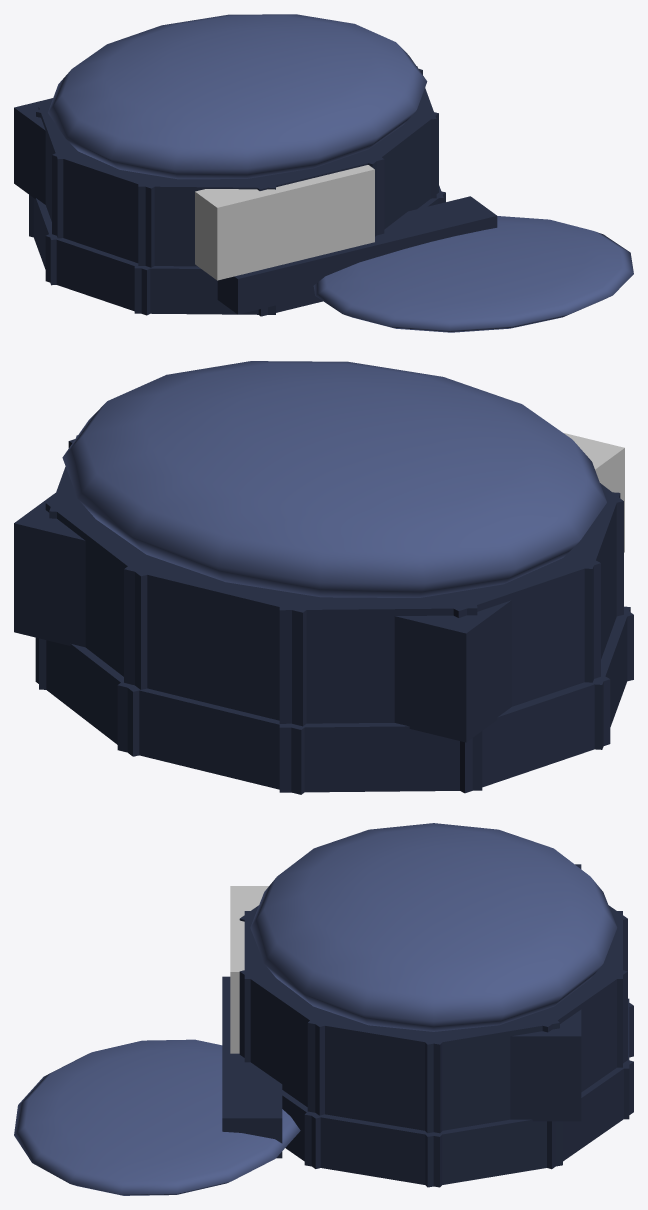
File: CMU3DAU14CivBallCapBlueTruckerWorldCloud.glb
3 renders of one model, top to bottom at view 1: azimuth 30°, elevation 25°; view 2: azimuth 150°, elevation 25°; view 3: azimuth 270°, elevation 25°, orthographic. The views are drawn at different scales.
Visible parts, largest first — view 1: continuous shallow cap roof, broad projecting curved bill, source pale trucker front panel, bill sewn attachment, connected cap crown panels facet 05, connected cap crown panels facet 06, connected cap crown panels facet 08, open lower cap sweatband facet 05, open lower cap sweatband facet 06, source colored rear panel, connected cap crown panels facet 07, connected cap crown panels facet 04 (+2 smaller); view 2: continuous shallow cap roof, source colored rear panel, connected cap crown panels facet 02, connected cap crown panels facet 03, open lower cap sweatband facet 03, connected cap crown panels facet 04, open lower cap sweatband facet 02, open lower cap sweatband facet 04, connected cap crown panels facet 01, open lower cap sweatband facet 01, connected cap crown panels facet 05, open lower cap sweatband facet 05 (+3 smaller); view 3: continuous shallow cap roof, broad projecting curved bill, connected cap crown panels facet 09, connected cap crown panels facet 00, connected cap crown panels facet 08, source colored rear panel, open lower cap sweatband facet 09, open lower cap sweatband facet 00, connected cap crown panels facet 01, bill sewn attachment, open lower cap sweatband facet 01, source pale trucker front panel (+3 smaller).
Part boxes in pixels (bbox=[...]): continuous shallow cap roof: bbox=[48, 14, 427, 179]; broad projecting curved bill: bbox=[313, 216, 633, 332]; source pale trucker front panel: bbox=[195, 165, 374, 280]; bill sewn attachment: bbox=[217, 196, 497, 314]; connected cap crown panels facet 05: bbox=[52, 145, 170, 267]; connected cap crown panels facet 06: bbox=[138, 173, 276, 266]; connected cap crown panels facet 08: bbox=[368, 108, 438, 236]; open lower cap sweatband facet 05: bbox=[45, 234, 150, 315]; open lower cap sweatband facet 06: bbox=[134, 262, 275, 314]; source colored rear panel: bbox=[14, 98, 52, 204]; connected cap crown panels facet 07: bbox=[248, 148, 384, 235]; connected cap crown panels facet 04: bbox=[38, 105, 89, 238]; continuous shallow cap roof: bbox=[62, 361, 606, 597]; source colored rear panel: bbox=[14, 493, 511, 742]; connected cap crown panels facet 02: bbox=[124, 554, 323, 726]; connected cap crown panels facet 03: bbox=[279, 589, 477, 723]; open lower cap sweatband facet 03: bbox=[279, 721, 482, 792]; connected cap crown panels facet 04: bbox=[433, 548, 600, 706]; open lower cap sweatband facet 02: bbox=[117, 681, 308, 794]; open lower cap sweatband facet 04: bbox=[460, 674, 610, 793]; connected cap crown panels facet 01: bbox=[45, 501, 180, 689]; open lower cap sweatband facet 01: bbox=[35, 637, 139, 756]; connected cap crown panels facet 05: bbox=[547, 492, 620, 682]; open lower cap sweatband facet 05: bbox=[586, 606, 630, 749]; continuous shallow cap roof: bbox=[250, 823, 617, 1031]; broad projecting curved bill: bbox=[14, 1039, 300, 1195]; connected cap crown panels facet 09: bbox=[307, 1009, 449, 1133]; connected cap crown panels facet 00: bbox=[414, 1010, 559, 1133]; connected cap crown panels facet 08: bbox=[239, 966, 349, 1115]; source colored rear panel: bbox=[510, 864, 581, 1121]; open lower cap sweatband facet 09: bbox=[304, 1112, 442, 1187]; open lower cap sweatband facet 00: bbox=[423, 1119, 562, 1187]; connected cap crown panels facet 01: bbox=[518, 965, 627, 1092]; bill sewn attachment: bbox=[222, 976, 282, 1158]; open lower cap sweatband facet 01: bbox=[547, 1060, 633, 1169]; source pale trucker front panel: bbox=[230, 886, 268, 1053].
Bounding box in the file's own units: 0.2864 × 0.113 × 0.3107.
